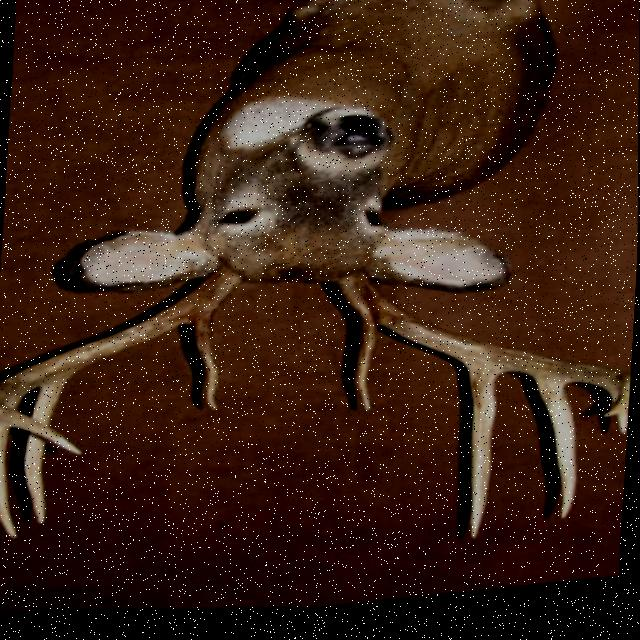E1: (0, 426, 2, 447)
L-F: (329, 276, 632, 431)
L-G1: (355, 328, 380, 420)
L-G2: (467, 377, 501, 551)
L-G3: (535, 391, 578, 532)
R-F: (0, 269, 243, 457)
R-G1: (190, 316, 221, 416)
